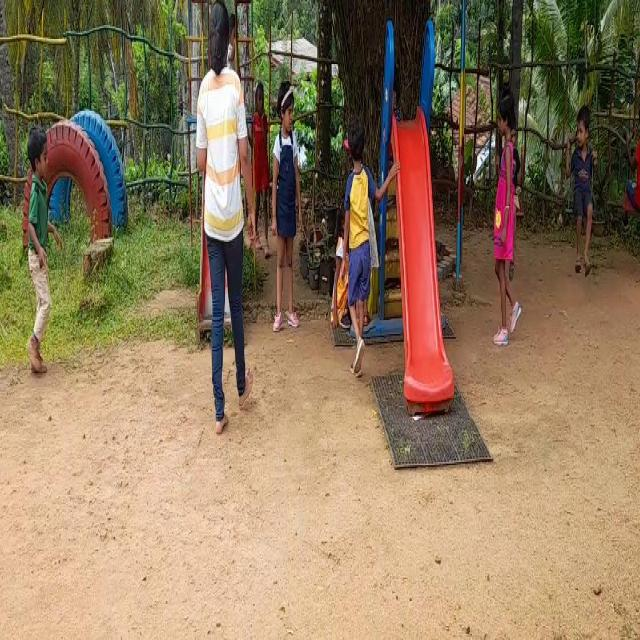adult: (184, 0, 257, 431)
child: (481, 66, 530, 355), (12, 110, 62, 391), (336, 98, 378, 380), (267, 69, 304, 329), (568, 90, 597, 280), (628, 76, 640, 272)
